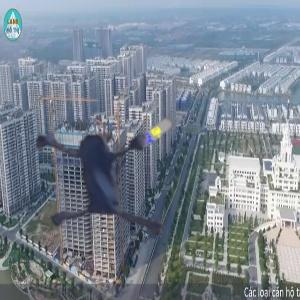drone: (11, 62, 230, 281)
